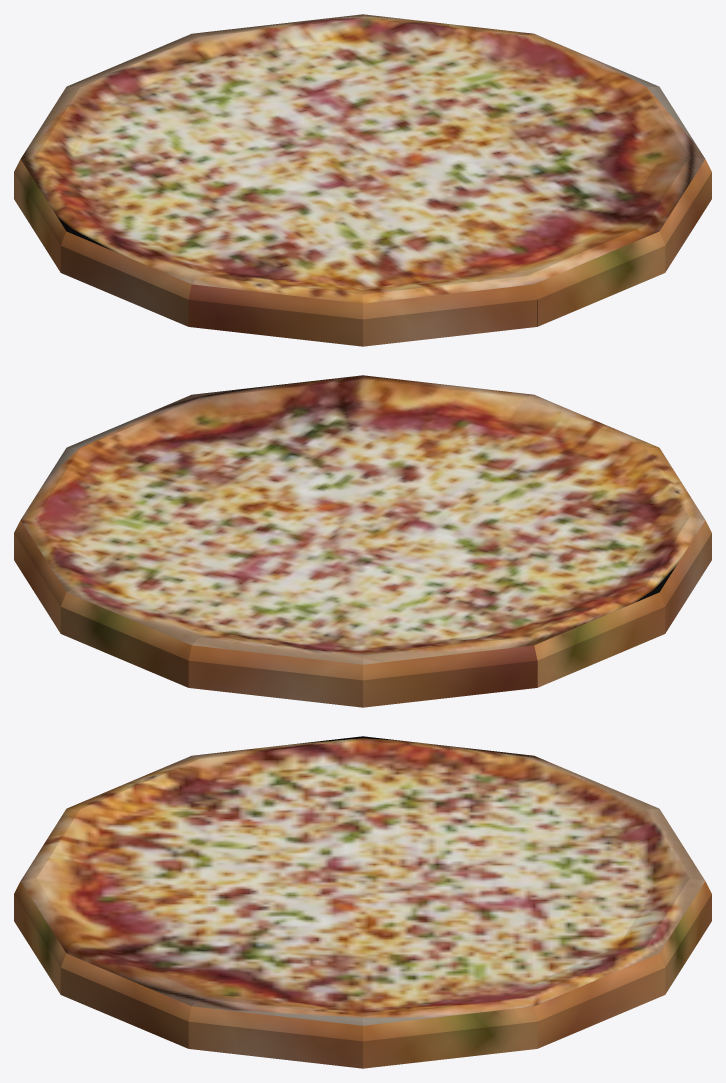
Rendered from Pizza.fbx.
3 views of the same model, one above another, from view 1: azimuth 30°, elevation 25°; view 2: azimuth 150°, elevation 25°; view 3: azimuth 270°, elevation 25° (orthographic).
Visible parts, largest first — view 1: Pizza1, Pizza11, Pizza10, Pizza2, Pizza3, Pizza9, Pizza5', Pizza6, Pizza5, Pizza7, Pizza4, Pizza8; view 2: Pizza7, Pizza8, Pizza6, Pizza9, Pizza10, Pizza5', Pizza2, Pizza3, Pizza1, Pizza4, Pizza11, Pizza5; view 3: Pizza4, Pizza5, Pizza3, Pizza5', Pizza2, Pizza6, Pizza10, Pizza9, Pizza11, Pizza8, Pizza1, Pizza7.
Boxes of the visible parts, left/top/right/bottom form: Pizza1: left=363, top=163, right=537, bottom=346; Pizza11: left=188, top=163, right=362, bottom=346; Pizza10: left=60, top=163, right=362, bottom=326; Pizza2: left=363, top=163, right=665, bottom=326; Pizza3: left=363, top=156, right=711, bottom=272; Pizza9: left=14, top=156, right=362, bottom=272; Pizza5': left=363, top=14, right=533, bottom=162; Pizza6: left=192, top=14, right=362, bottom=162; Pizza5: left=363, top=33, right=658, bottom=163; Pizza7: left=67, top=33, right=362, bottom=163; Pizza4: left=364, top=86, right=704, bottom=163; Pizza8: left=21, top=86, right=361, bottom=163; Pizza7: left=188, top=524, right=362, bottom=707; Pizza8: left=363, top=524, right=537, bottom=707; Pizza6: left=60, top=524, right=362, bottom=687; Pizza9: left=363, top=524, right=665, bottom=687; Pizza10: left=363, top=517, right=711, bottom=633; Pizza5': left=14, top=517, right=362, bottom=633; Pizza2: left=363, top=375, right=533, bottom=523; Pizza3: left=192, top=375, right=362, bottom=523; Pizza1: left=363, top=394, right=658, bottom=524; Pizza4: left=67, top=394, right=362, bottom=524; Pizza11: left=364, top=447, right=704, bottom=524; Pizza5: left=21, top=447, right=361, bottom=524; Pizza4: left=188, top=885, right=362, bottom=1068; Pizza5: left=363, top=885, right=537, bottom=1068; Pizza3: left=60, top=885, right=362, bottom=1048; Pizza5': left=363, top=885, right=665, bottom=1048; Pizza2: left=14, top=878, right=362, bottom=994; Pizza6: left=363, top=878, right=711, bottom=994; Pizza10: left=192, top=736, right=362, bottom=884; Pizza9: left=363, top=736, right=533, bottom=884; Pizza11: left=67, top=755, right=362, bottom=885; Pizza8: left=363, top=755, right=658, bottom=885; Pizza1: left=21, top=808, right=361, bottom=885; Pizza7: left=364, top=808, right=704, bottom=885.
Size of the model in its own units: 200 by 13.5 by 200.
